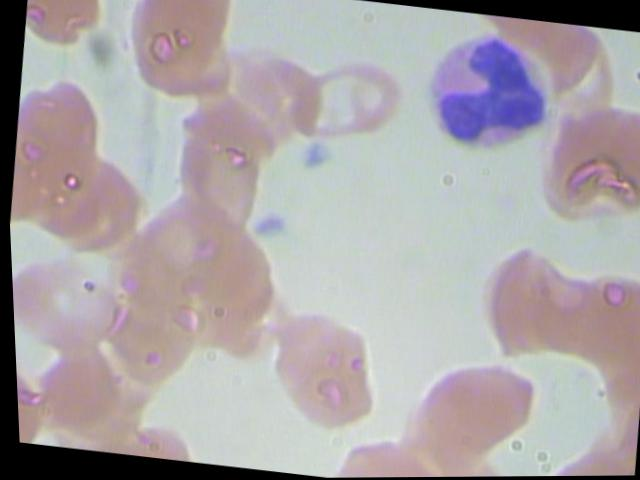Platelets: (290, 134, 343, 179), (246, 204, 298, 249)
Red Blood Cells: (391, 350, 548, 477), (258, 308, 387, 434), (527, 94, 639, 237), (455, 235, 583, 360), (97, 241, 205, 387), (163, 105, 271, 251), (5, 77, 112, 222), (8, 237, 122, 365), (280, 50, 408, 156), (116, 0, 242, 102), (22, 0, 115, 61)
White Blood Cells: (410, 20, 566, 168)
